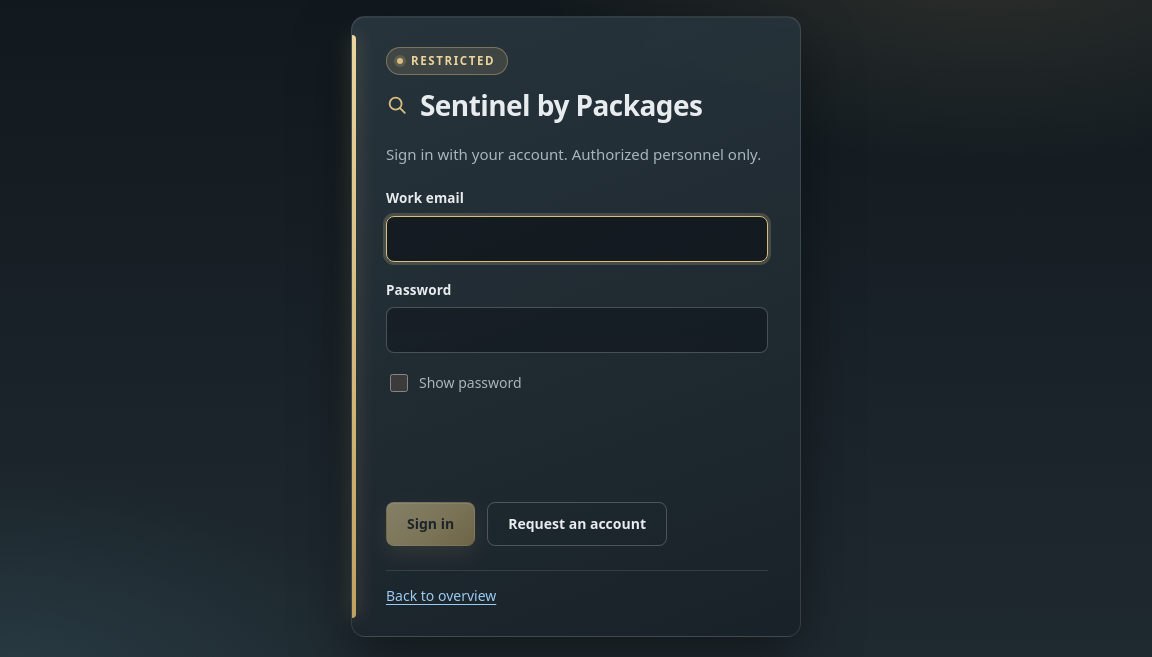
moving between the public screens › keeps the address in step when switching between sign in and request
Click the button "Request an account": {"x": 577, "y": 524} [487,502,667,546]
(page scrolled)
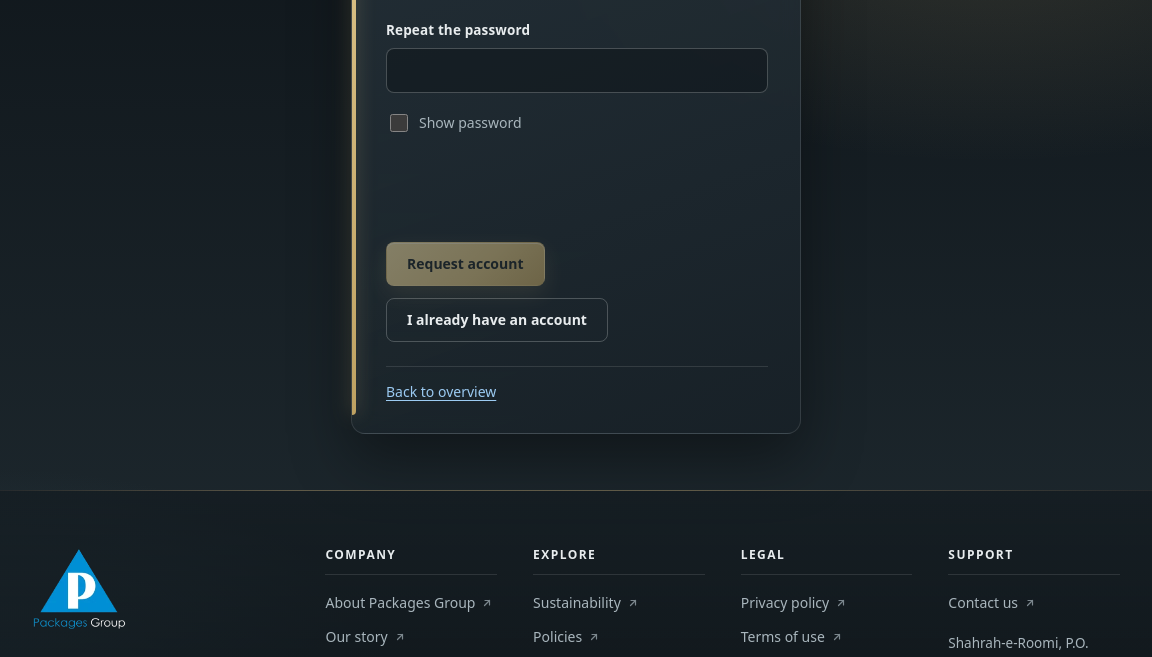
Now the password field labelled "Repeat the password" is shown, box [386,48,768,93]
Click the button "I already have an account": {"x": 497, "y": 320} [386,298,608,342]
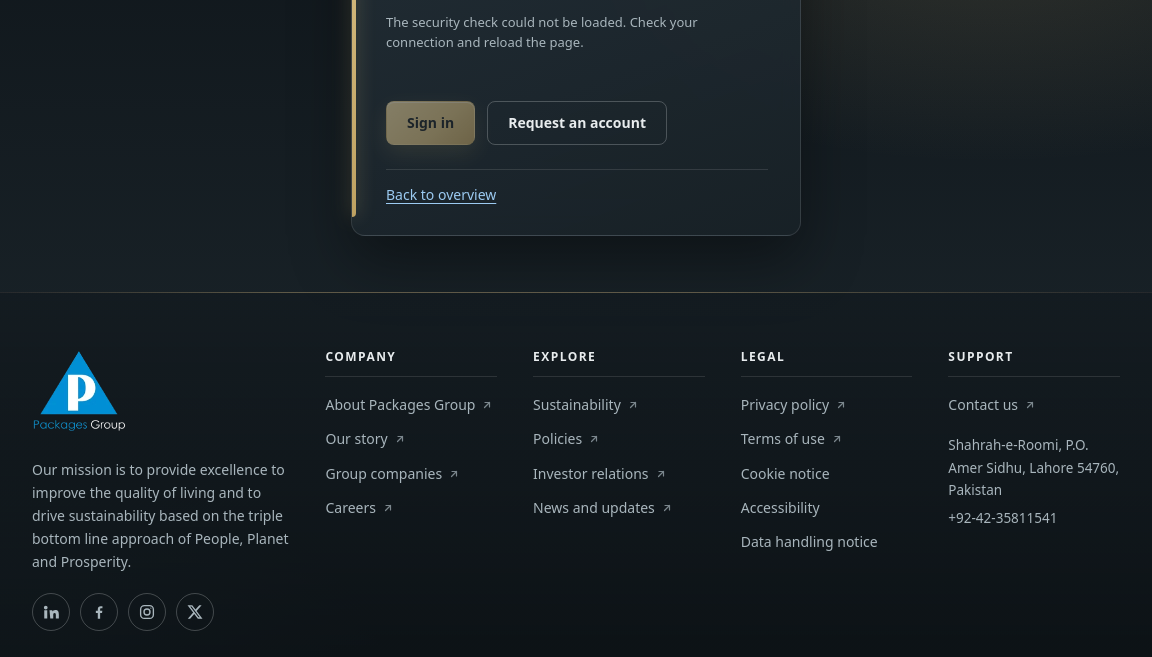
Now the text labelled "Repeat the password" is gone
